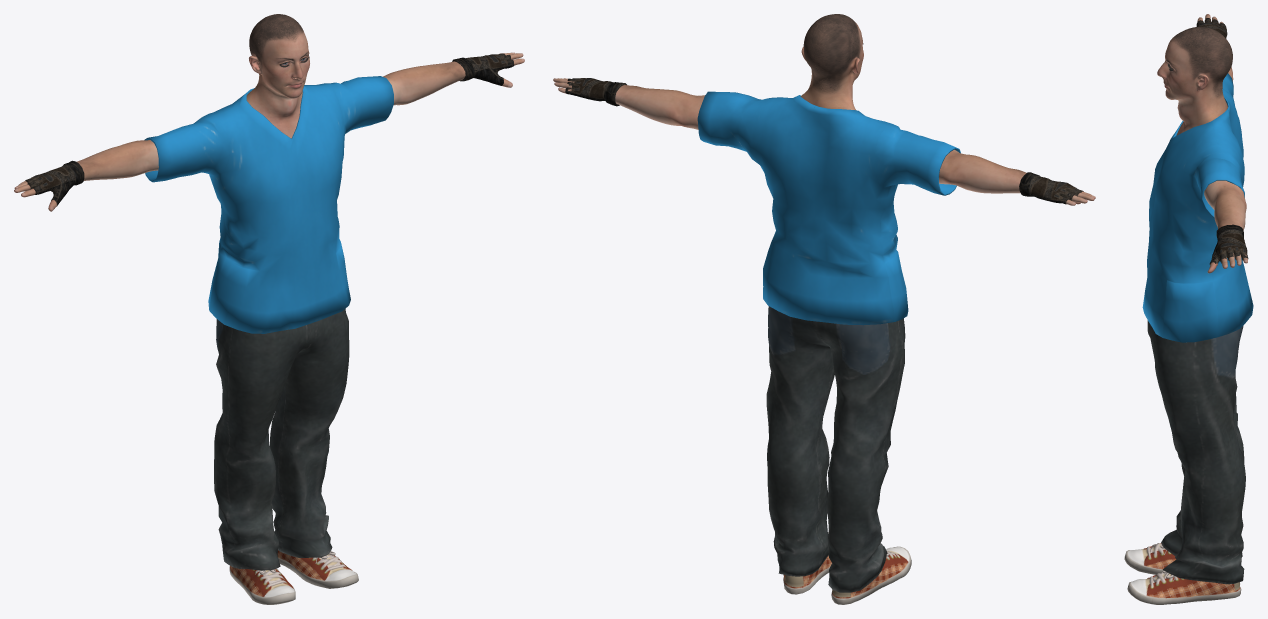
Rendered from Vitor.obj.
3 renders of one model, left to right at view 1: azimuth 30°, elevation 25°; view 2: azimuth 150°, elevation 25°; view 3: azimuth 270°, elevation 25°, orthographic. The views are drawn at different scales.
Parts seen in each view (by area): view 1: Tops, Bottoms, Body, Shoes, Gloves; view 2: Tops, Bottoms, Body, Gloves, Shoes; view 3: Tops, Bottoms, Body, Shoes, Gloves.
Part boxes in pixels (left/top/right/bottom): Tops: left=144, top=76, right=393, bottom=333; Bottoms: left=214, top=309, right=349, bottom=570; Body: left=14, top=14, right=524, bottom=211; Shoes: left=229, top=550, right=358, bottom=604; Gloves: left=25, top=53, right=514, bottom=205; Tops: left=697, top=91, right=960, bottom=325; Bottoms: left=766, top=306, right=905, bottom=592; Body: left=553, top=14, right=1095, bottom=205; Gloves: left=565, top=78, right=1083, bottom=204; Shoes: left=783, top=532, right=911, bottom=604; Tops: left=1142, top=73, right=1253, bottom=342; Bottoms: left=1147, top=320, right=1245, bottom=584; Body: left=1157, top=14, right=1247, bottom=273; Shoes: left=1124, top=543, right=1241, bottom=604; Gloves: left=1196, top=18, right=1248, bottom=264.
Bounding box in the file's own units: 177 × 182 × 38.34.
1 material, 1 textured.
